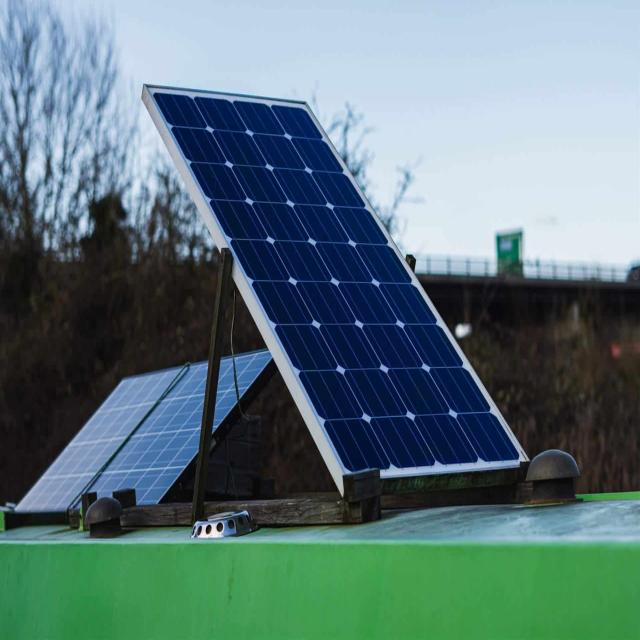clean-solar-panel: (144, 85, 521, 484)
